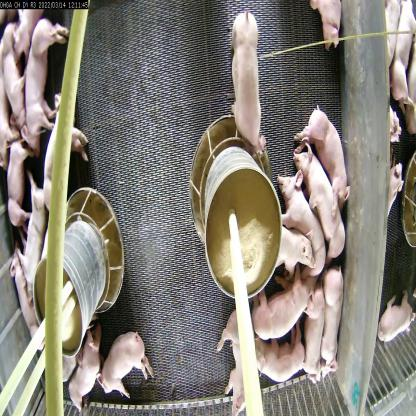Pig: (290, 141, 349, 262), (224, 5, 264, 151), (18, 21, 67, 137), (278, 170, 324, 272), (250, 276, 310, 348), (38, 91, 78, 197), (314, 270, 350, 382), (305, 105, 350, 186), (221, 304, 253, 416), (249, 327, 308, 386), (103, 326, 147, 403), (13, 186, 46, 284), (0, 141, 33, 235), (272, 218, 319, 284), (66, 329, 102, 414), (300, 281, 325, 382), (3, 33, 25, 138)
